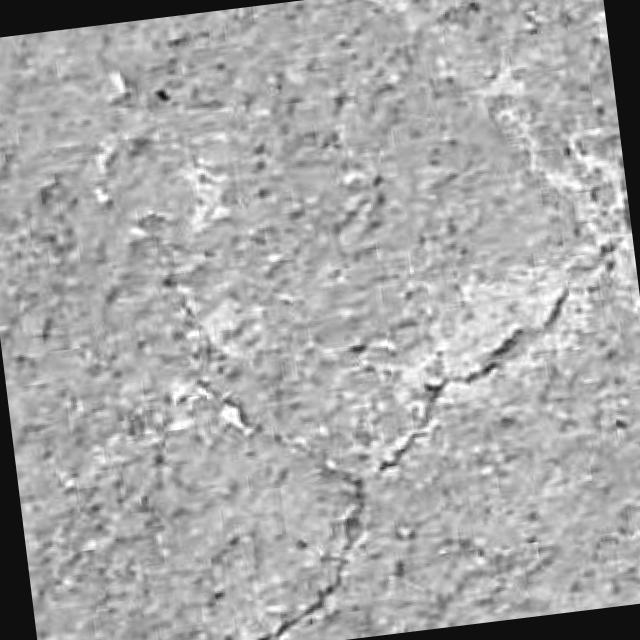crack: (374, 287, 571, 474), (258, 464, 367, 639)
